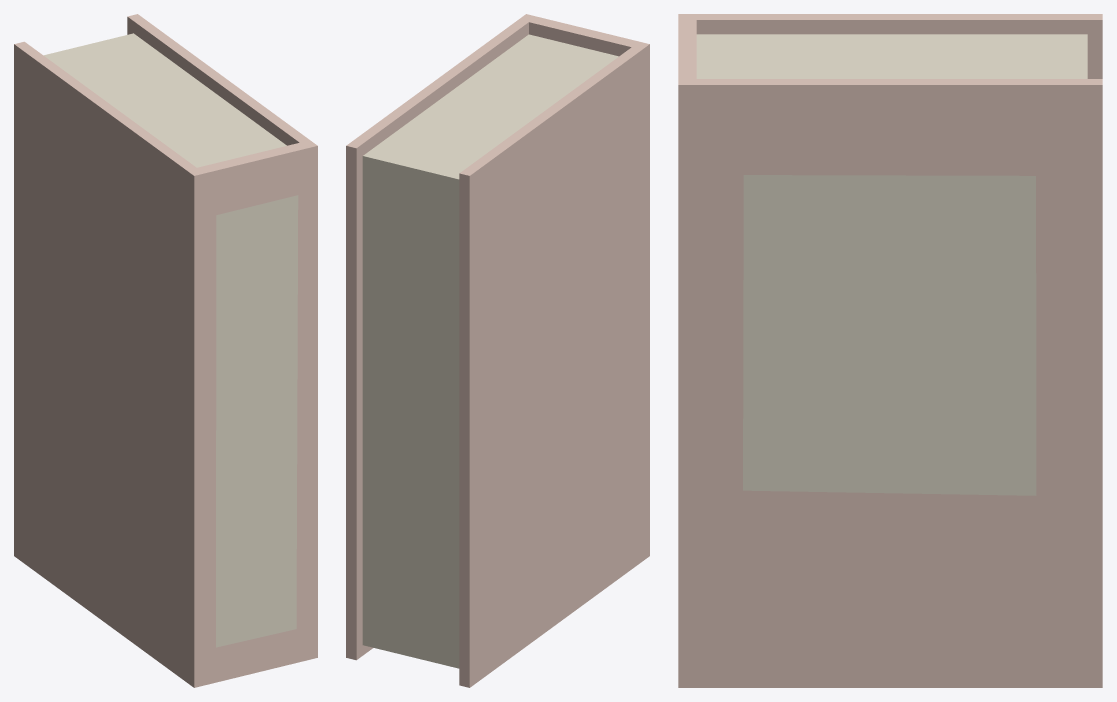
Rendered from book1.fbx.
The picture shows the model from 3 angles, left to right: view 1: azimuth 30°, elevation 25°; view 2: azimuth 150°, elevation 25°; view 3: azimuth 270°, elevation 25°; orthographic projection. The views are drawn at different scales.
Visible parts, largest first — view 1: Boole_4; view 2: Boole_4; view 3: Boole_4.
Boxes of the visible parts, x1=… form: Boole_4: x1=14, y1=14, x2=317, y2=687; Boole_4: x1=346, y1=14, x2=649, y2=687; Boole_4: x1=678, y1=14, x2=1102, y2=687.
Bounding box in the file's own units: 11.73 × 46.4 × 29.58.
